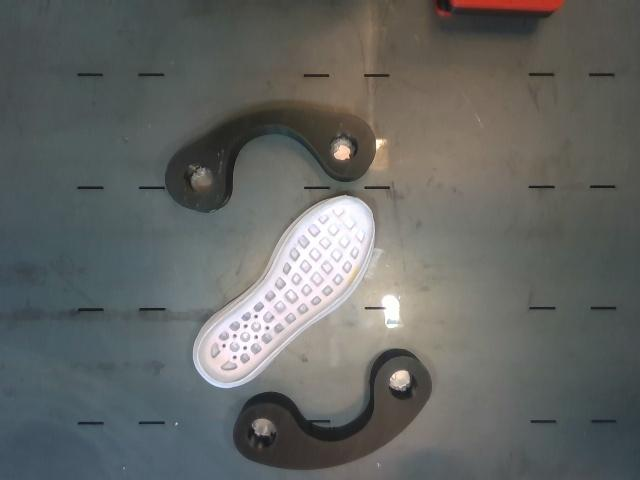shoes: (197, 198, 373, 384)
